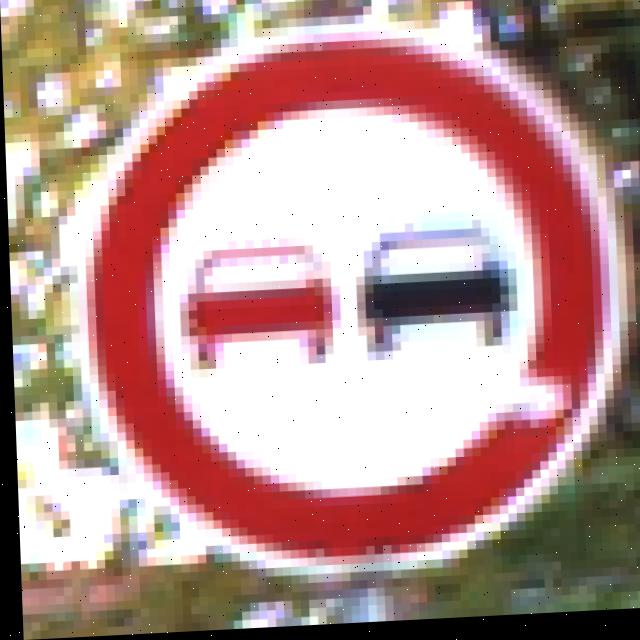no_overtaking: (101, 18, 630, 578)
